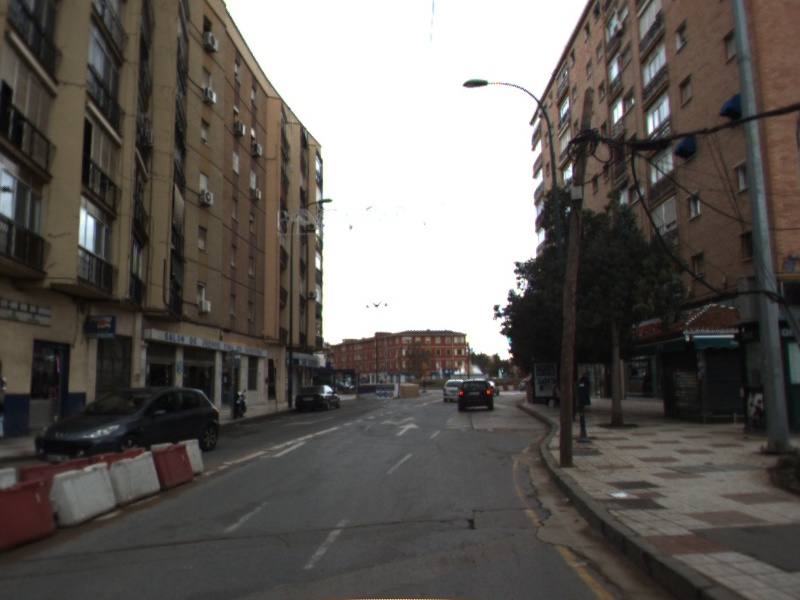STRAIGHT: (393, 418, 421, 438)
STRAIGHT_LEFT: (377, 414, 419, 428)
